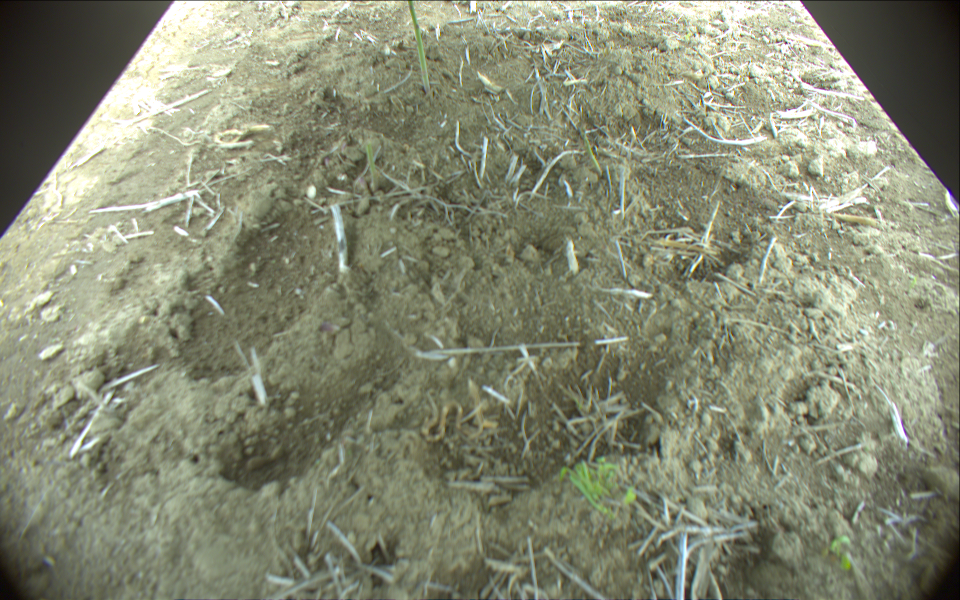aspa: (404, 1, 431, 93), (363, 141, 380, 198)
